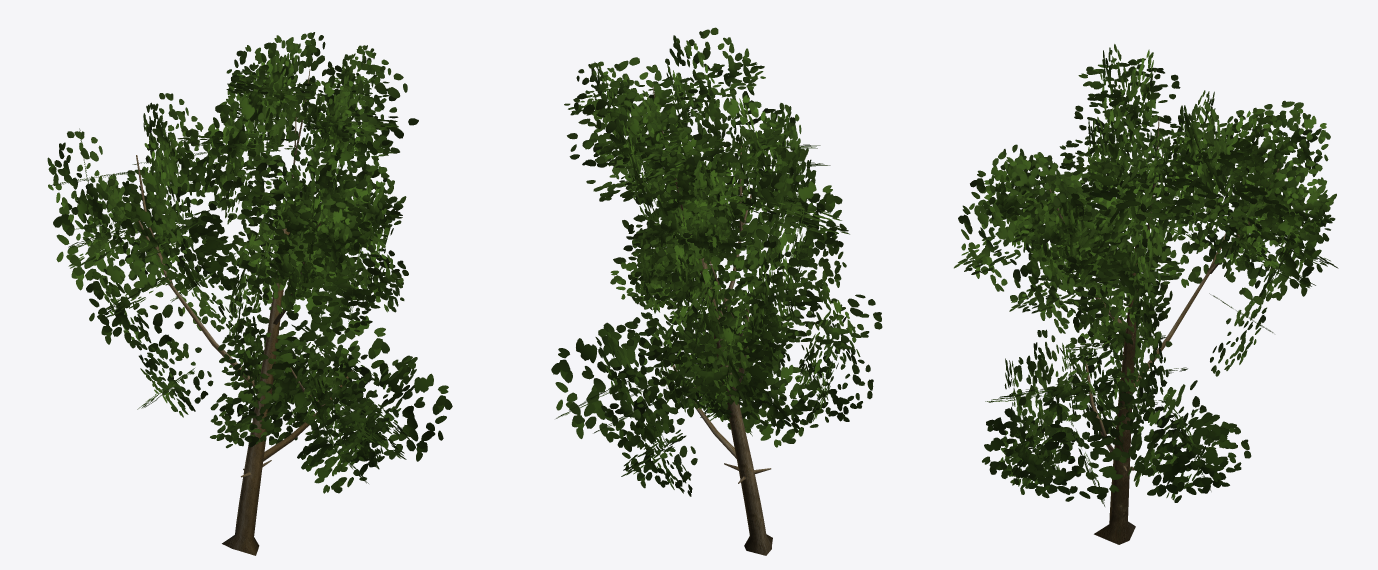
The model's file is env_tree_prairie_01.glb.
The picture shows the model from 3 angles, left to right: view 1: azimuth 30°, elevation 25°; view 2: azimuth 150°, elevation 25°; view 3: azimuth 270°, elevation 25°; orthographic projection. The views are drawn at different scales.
Parts seen in each view (by area): view 1: tree_prairie_01; view 2: tree_prairie_01; view 3: tree_prairie_01.
Part boxes in pixels (box(x1,y1,x2,y2)): tree_prairie_01: box(47, 32, 452, 555); tree_prairie_01: box(551, 27, 882, 555); tree_prairie_01: box(954, 44, 1338, 544).
Size of the model in its own units: 6.22 by 8.58 by 6.38.
Materials: 2 (2 with a texture image).
